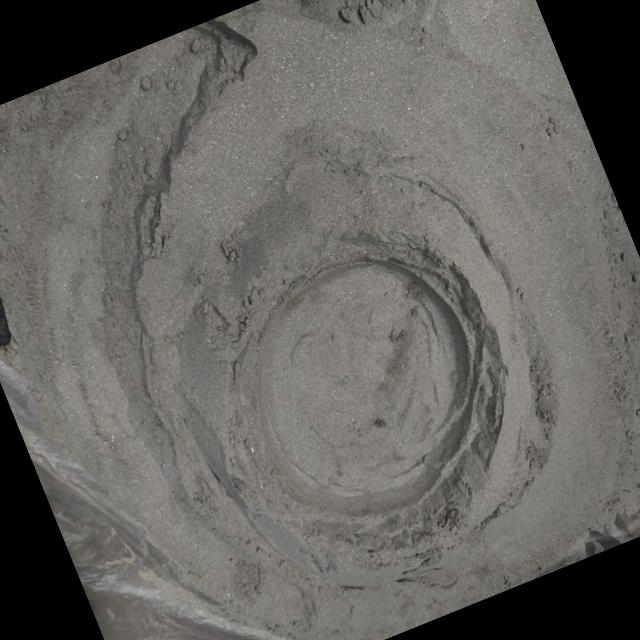C40: (264, 264, 508, 522)
